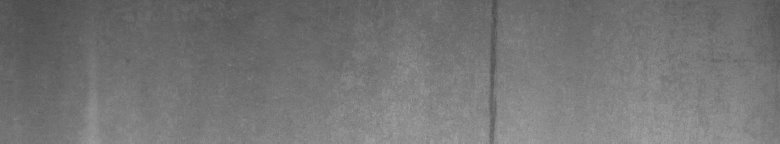hd: (484, 4, 503, 136)
